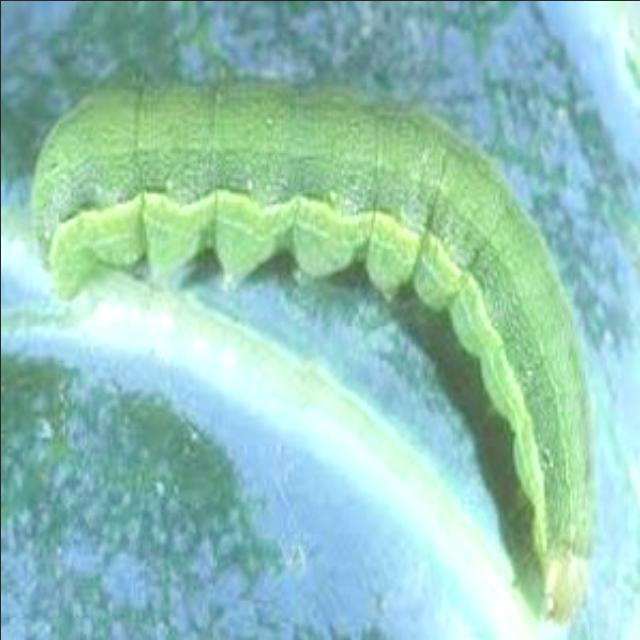Beet armyworm: (11, 37, 610, 636)
